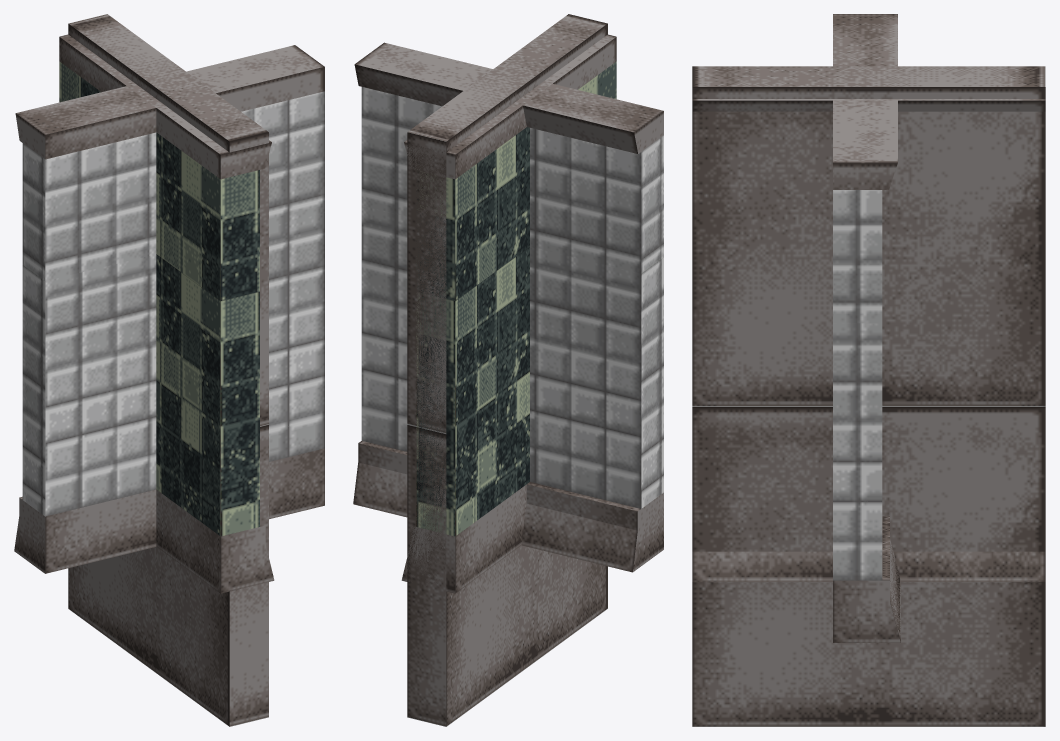
Rendered from ProtocolWallPanel.fbx.
The picture shows the model from 3 angles, left to right: view 1: azimuth 30°, elevation 25°; view 2: azimuth 150°, elevation 25°; view 3: azimuth 270°, elevation 25°; orthographic projection. The views are drawn at different scales.
Visible parts, largest first — view 1: WallPanel.WhiteTile, WallPanel.MarbleTile, WallPanel.Tall.Concrete; view 2: WallPanel.WhiteTile, WallPanel.Tall.Concrete, WallPanel.MarbleTile; view 3: WallPanel.Tall.Concrete, WallPanel.WhiteTile, WallPanel.MarbleTile.
Part boxes in pixels (box(x1,y1,x2,y2)): WallPanel.WhiteTile: box(14, 45, 324, 573); WallPanel.MarbleTile: box(59, 34, 274, 593); WallPanel.Tall.Concrete: box(68, 14, 268, 726); WallPanel.WhiteTile: box(353, 42, 663, 572); WallPanel.Tall.Concrete: box(407, 14, 607, 726); WallPanel.MarbleTile: box(401, 34, 616, 593); WallPanel.Tall.Concrete: box(692, 66, 1045, 726); WallPanel.WhiteTile: box(833, 14, 900, 642); WallPanel.MarbleTile: box(692, 99, 1045, 581).
Size of the model in its own units: 200 by 400 by 200.
